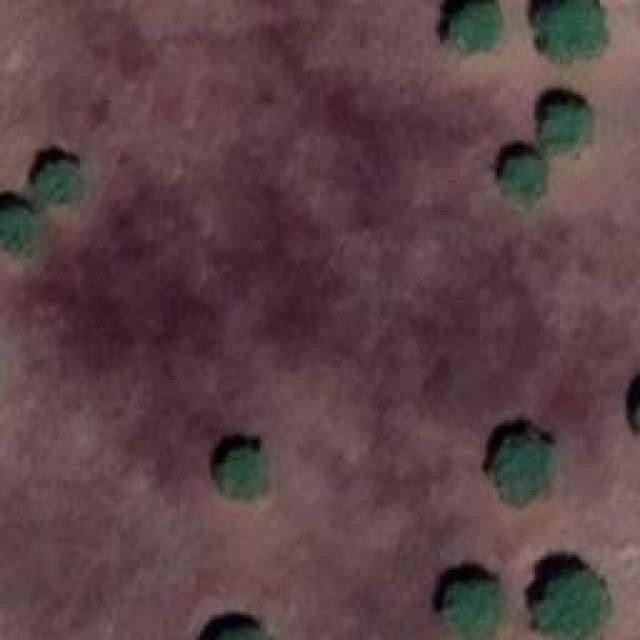Tree: (538, 573, 608, 638), (547, 0, 605, 60), (498, 438, 553, 501), (445, 583, 500, 638), (452, 3, 500, 48), (542, 105, 590, 148), (37, 160, 85, 203), (220, 450, 265, 493), (505, 155, 545, 203), (0, 208, 35, 253), (218, 625, 274, 639)
